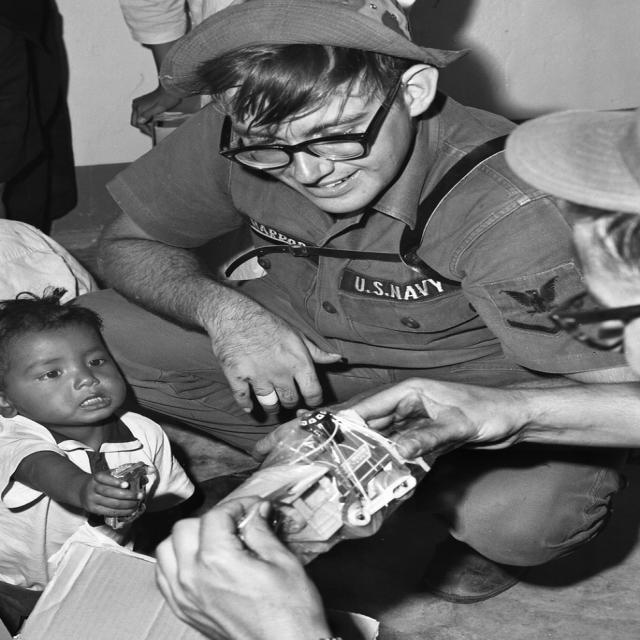Glasses: (228, 110, 421, 166)
